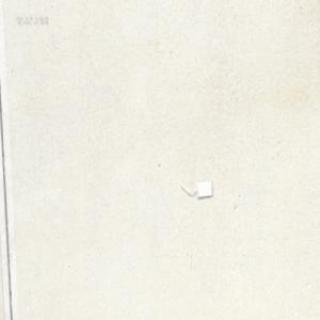LuggageTagtrack_idkeyframe: (178, 178, 212, 197)
